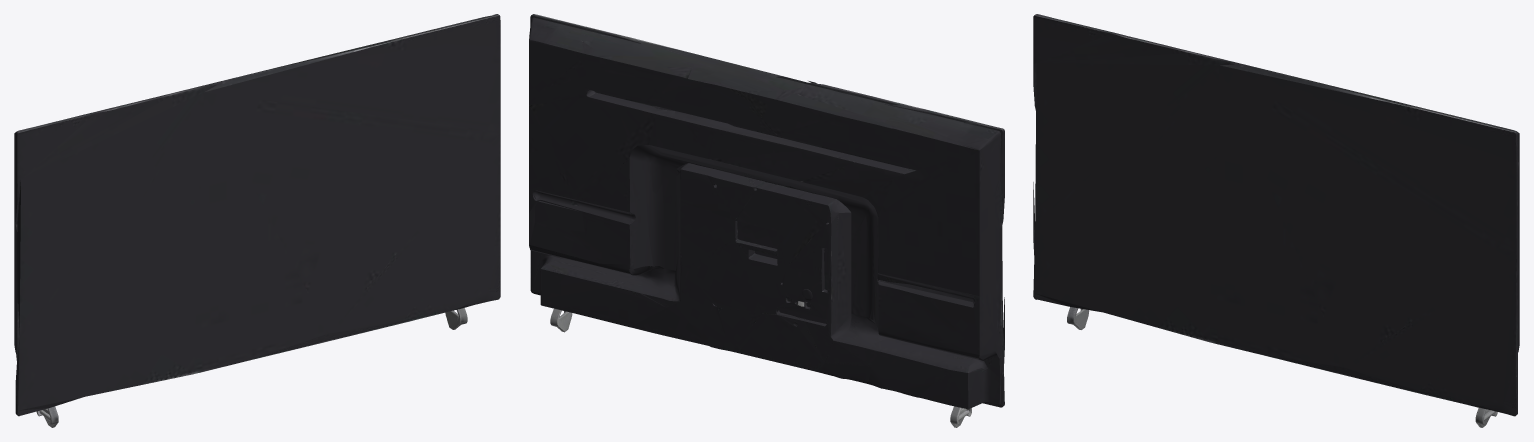
File: lg-tvs-55ua8000.glb
3 views of the same model, side by side, from view 1: azimuth 30°, elevation 25°; view 2: azimuth 150°, elevation 25°; view 3: azimuth 330°, elevation 25° (orthographic). The views are drawn at different scales.
Size of the model in its own units: 1.9 by 1.16 by 0.1049.
Materials: 1 (1 with a texture image).
